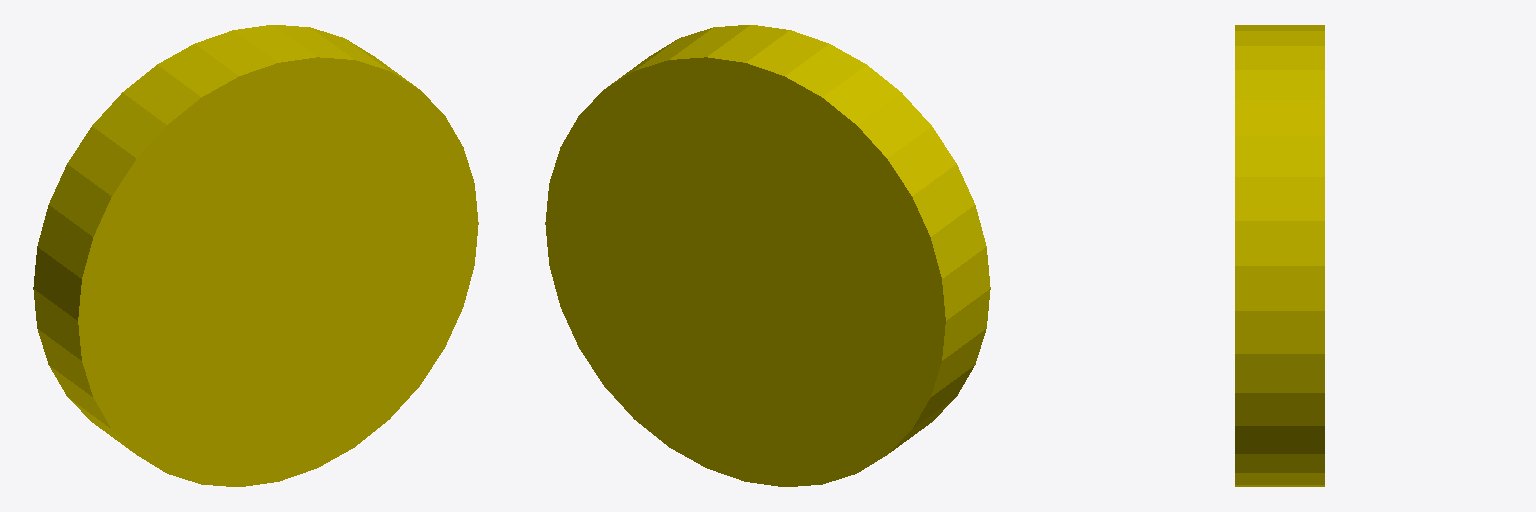
The model's file is coin.obj.
3 renders of one model, left to right at view 1: azimuth 30°, elevation 25°; view 2: azimuth 150°, elevation 25°; view 3: azimuth 270°, elevation 25°, orthographic.
Visible parts, largest first — view 1: coin; view 2: coin; view 3: coin.
Part boxes in pixels (left/top/right/bottom): coin: left=33, top=25, right=478, bottom=486; coin: left=545, top=25, right=990, bottom=486; coin: left=1235, top=25, right=1324, bottom=486.
Bounding box in the file's own units: 2 × 2 × 0.387.